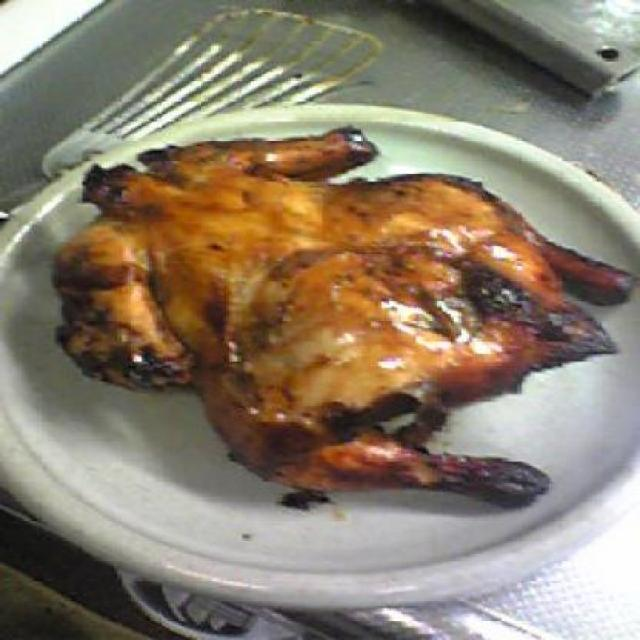Chicken roast: (66, 114, 629, 518)
